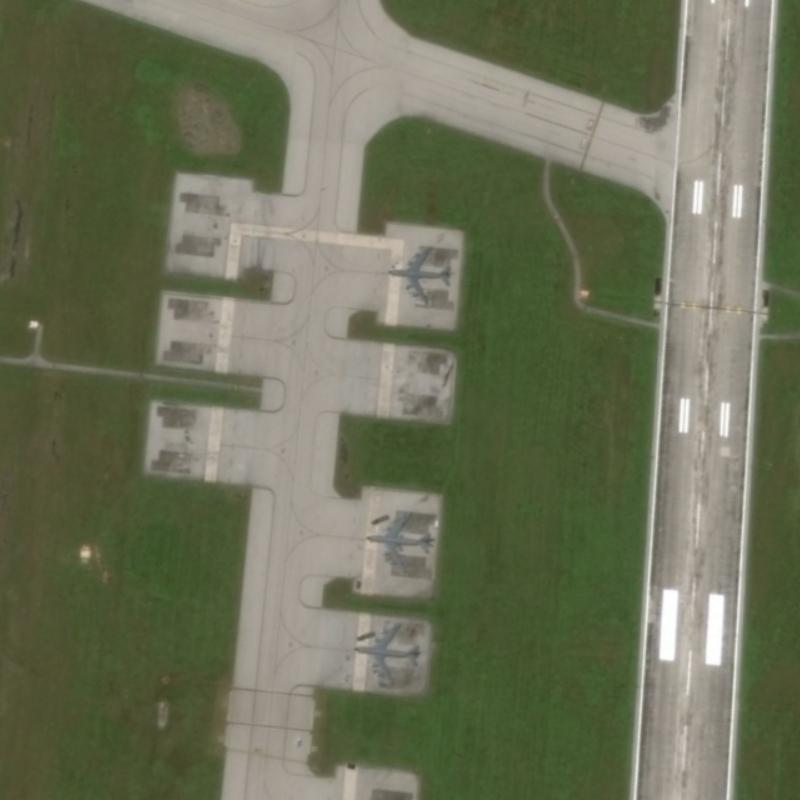A14: (363, 510, 434, 577), (350, 620, 420, 686), (385, 243, 452, 304)
